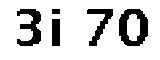0: (118, 7, 152, 52)
3: (12, 4, 45, 50)
7: (81, 1, 113, 49)
i: (48, 6, 69, 50)
